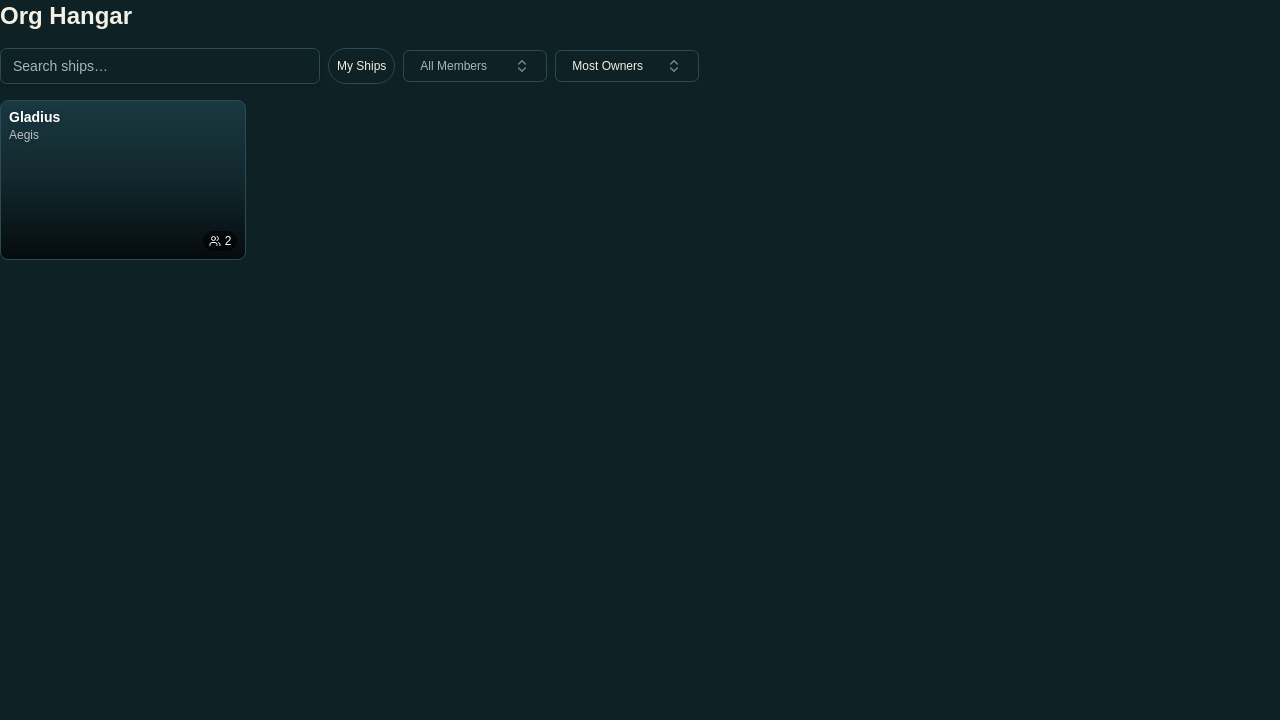
OrgHangarView › populates member filter from API
This screenshot has width=1280, height=720.
expect the text "Gladius" is shown: met, box [9,109,60,125]
Click the dropdown named "filter by member".
click(475, 66)  # box [403,50,547,82]
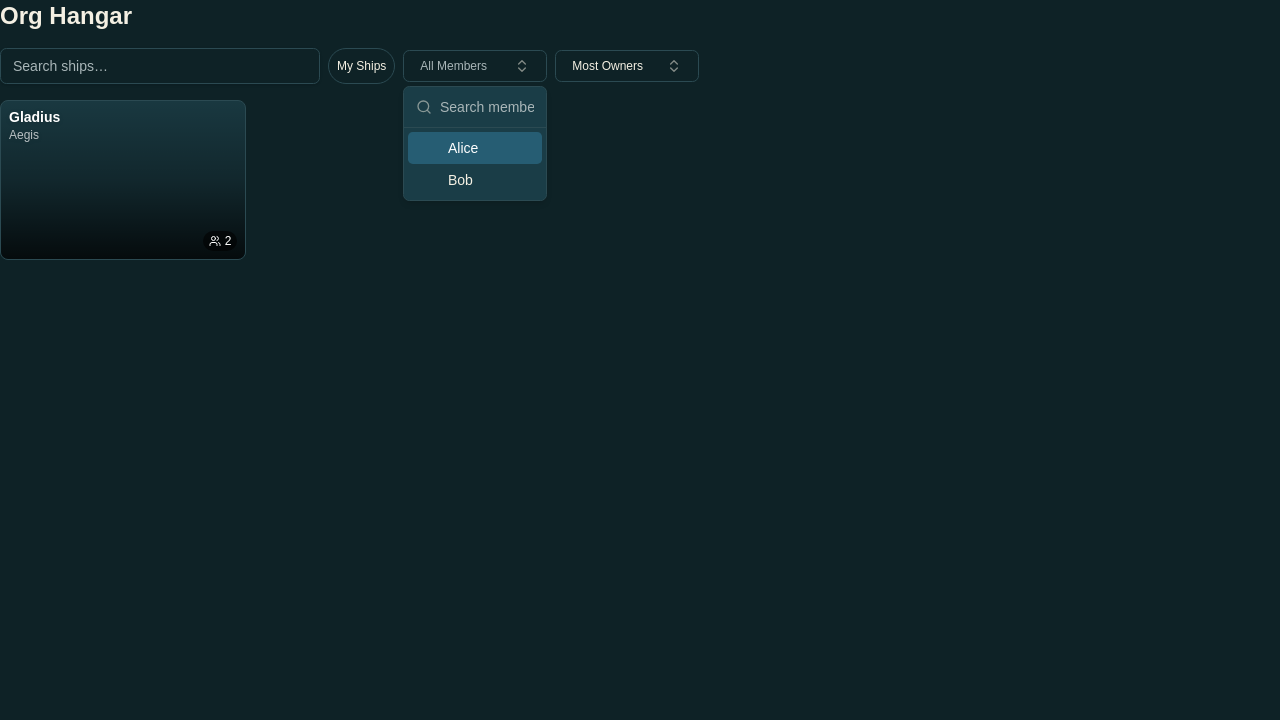
expect the option "Alice" is shown: met, box [408,132,542,164]
expect the option "Bob" is shown: met, box [448,172,473,188]
